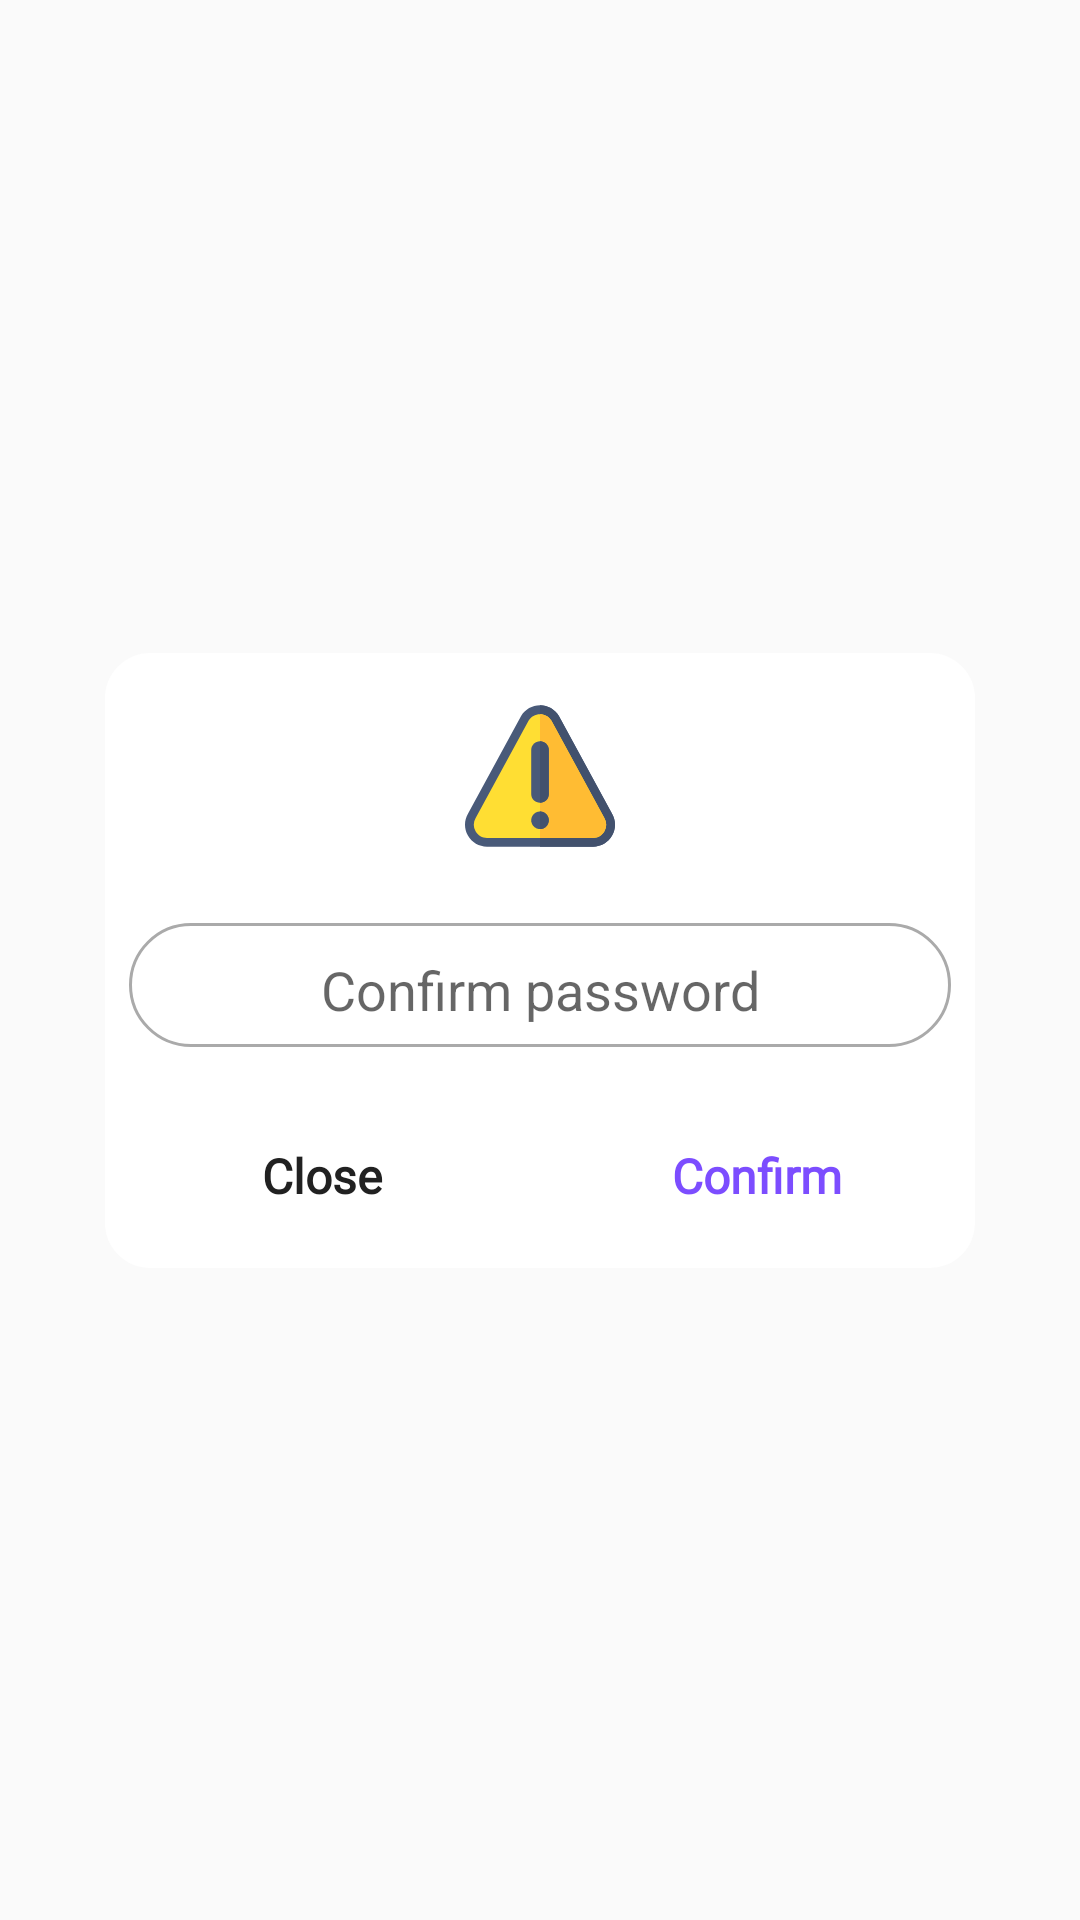

Locate icon controls on the screen. Image size 1080 x 1920, boxes as (x1, y1, x2, y2).
warning: (465, 705, 615, 847)
